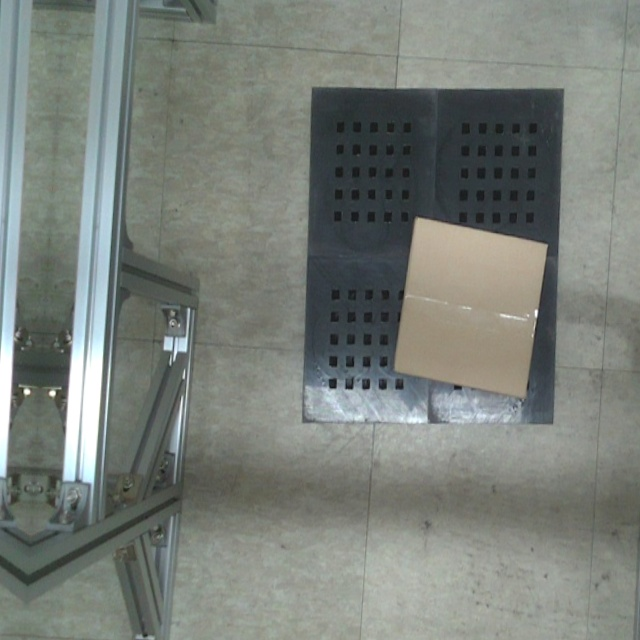box: (391, 211, 550, 403)
pallet: (281, 65, 586, 445)
